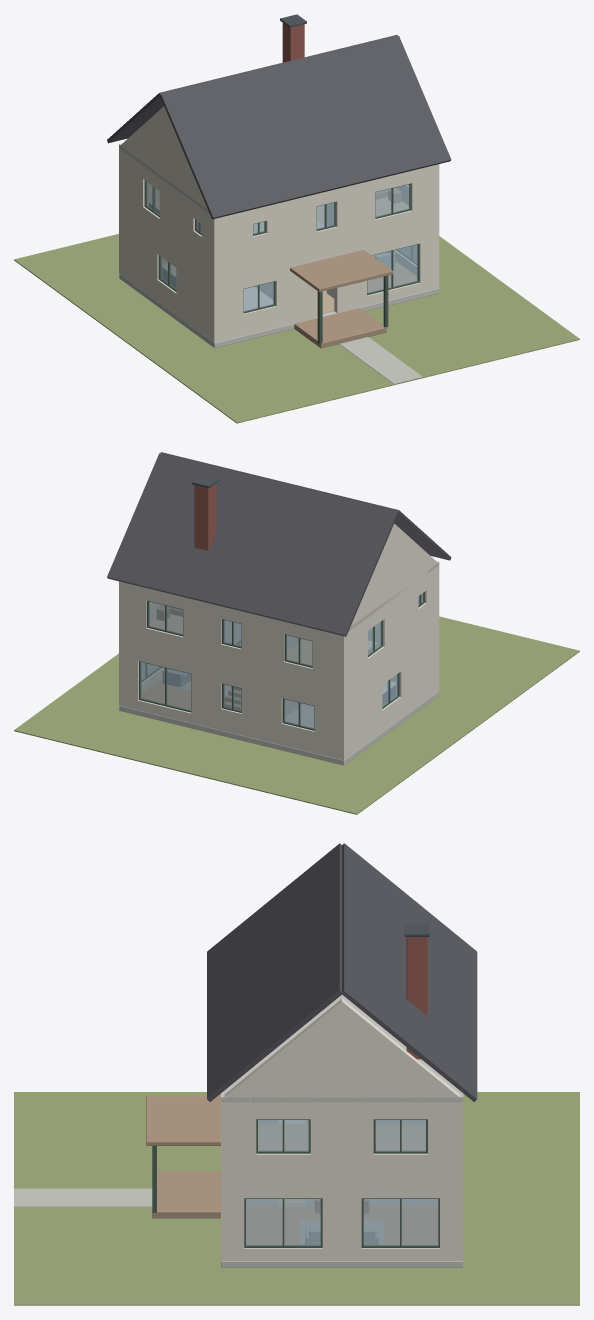
The model's file is frontier_house.glb.
3 views of the same model, one above another, from view 1: azimuth 30°, elevation 25°; view 2: azimuth 150°, elevation 25°; view 3: azimuth 270°, elevation 25° (orthographic). The views are drawn at different scales.
Visible parts, largest first — view 1: site, roof, floor_0, floor_1; view 2: roof, site, floor_0, floor_1; view 3: site, roof, floor_0, floor_1.
Part boxes in pixels (box(x1,y1,x2,y2)): site: box(14, 234, 579, 423); roof: box(107, 14, 451, 219); floor_0: box(119, 209, 439, 343); floor_1: box(119, 143, 439, 278); roof: box(107, 452, 451, 636); site: box(14, 616, 579, 814); floor_0: box(119, 626, 439, 760); floor_1: box(119, 561, 439, 695); site: box(14, 1092, 579, 1305); roof: box(207, 843, 477, 1102); floor_0: box(146, 1096, 463, 1260); floor_1: box(221, 1093, 463, 1179).
Size of the model in its own units: 16.7 by 10.92 by 18.8.
